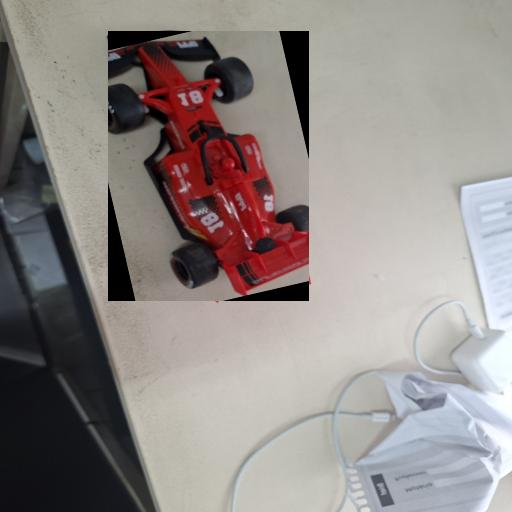carro: (107, 31, 308, 300)
